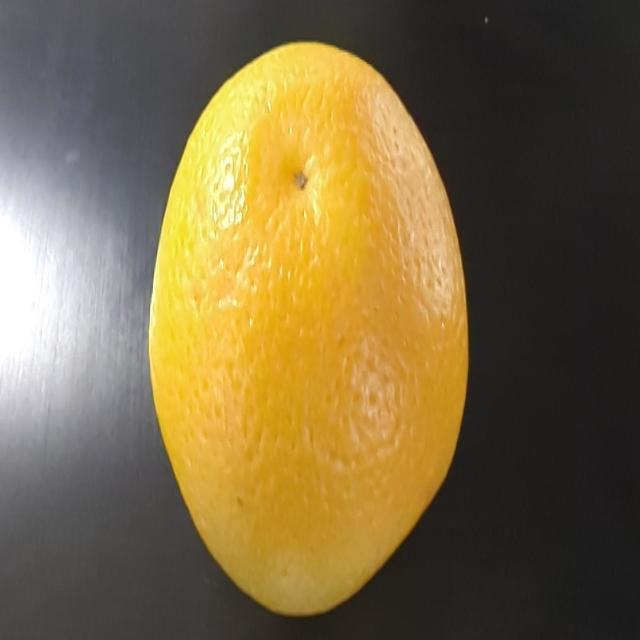Jeruk: (158, 16, 470, 640)
